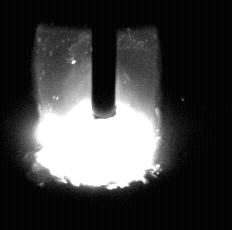arame: (93, 0, 116, 119)
poca: (34, 0, 157, 230)
